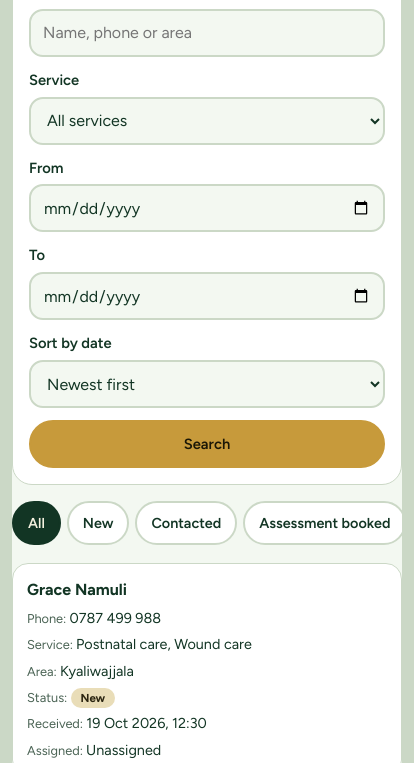
it: EnquiriesPage › filters by service and by date range
The image size is (414, 763).
Select "Wound care" in the dropdown labelled "Service". click: point(207, 121)
box: [29,97,385,145]
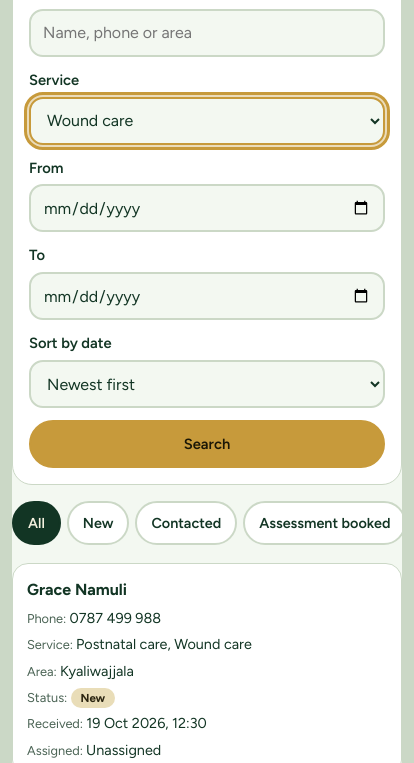
Type "2026-10-01" into the date field labelled "From". click: point(207, 208)
box: [29,184,385,232]
(page scrolled)
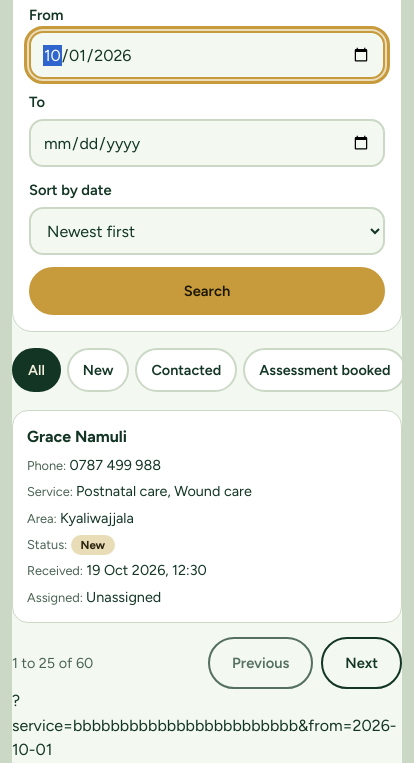
Result: the text with test id "search" shows "from=2026-10-01" at [12,691,396,759]
